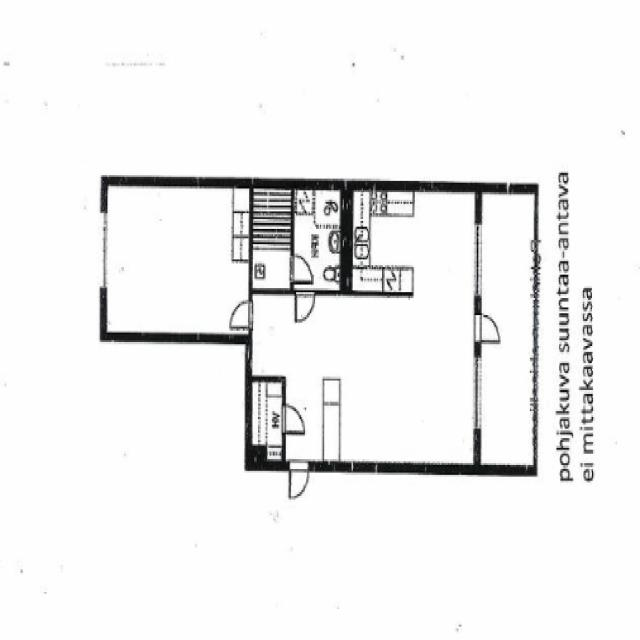door: (290, 462, 308, 501), (474, 315, 499, 342), (282, 405, 304, 433), (296, 289, 314, 322), (231, 302, 252, 328), (291, 256, 312, 282)
